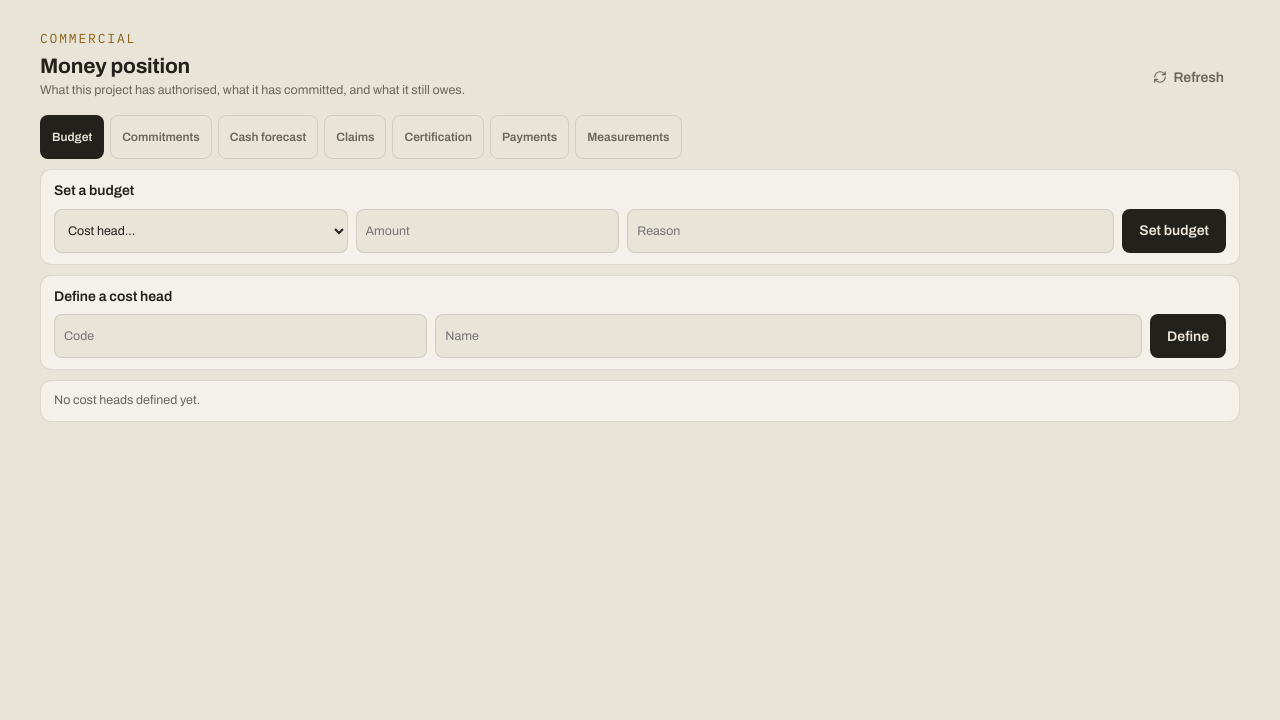
Test: Task 7B-ii (§M) — the rendered claim tabs never dereference an absent claim › renders the lifecycle once the claim is loaded
Click the button with test id "commercial-tab-claims" at (355, 137), box [324,115,386,159]
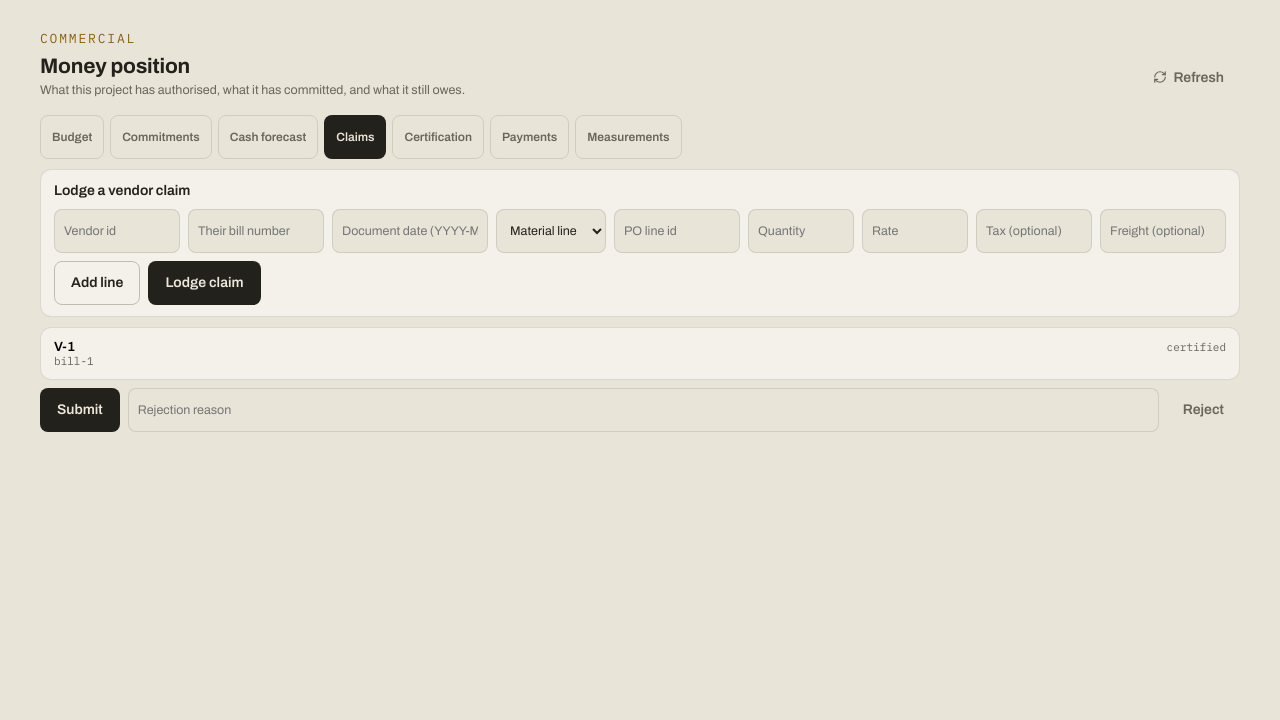
Click the button with test id "commercial-claim-row-bill-1" at (1196, 347), box [40,327,1240,380]
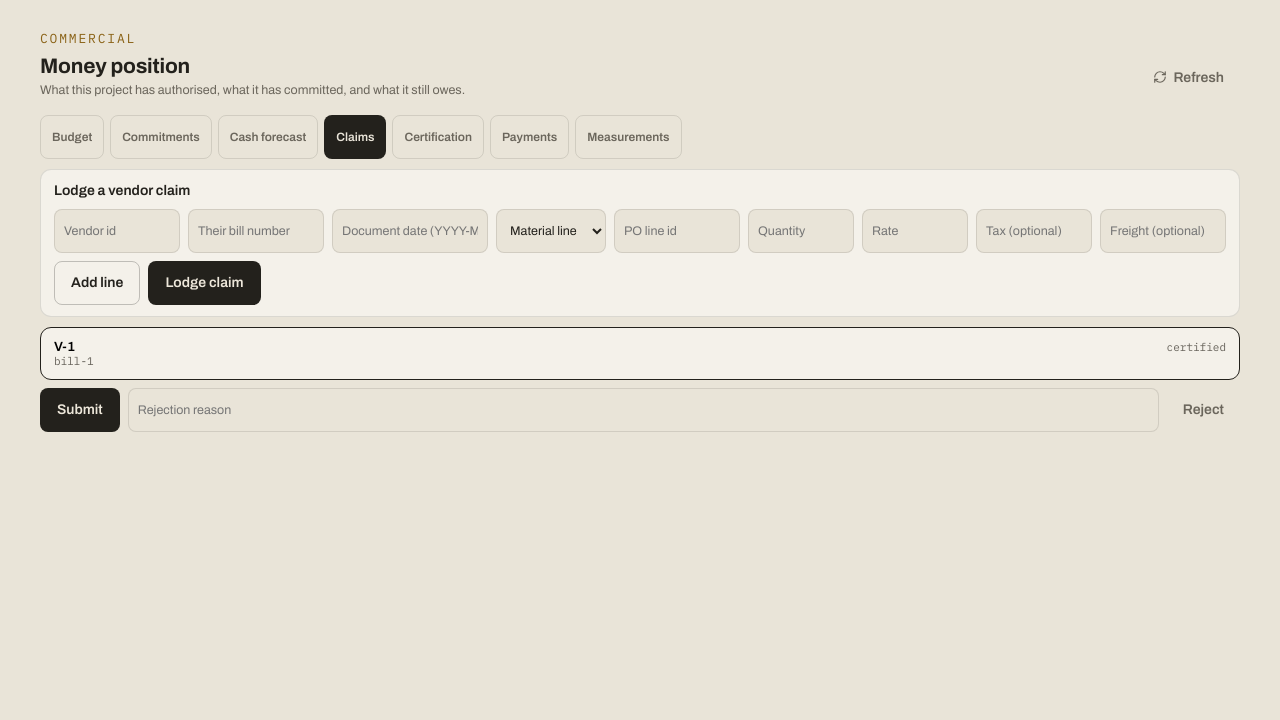
Click the button with test id "commercial-tab-certification" at (438, 137), box [392,115,484,159]
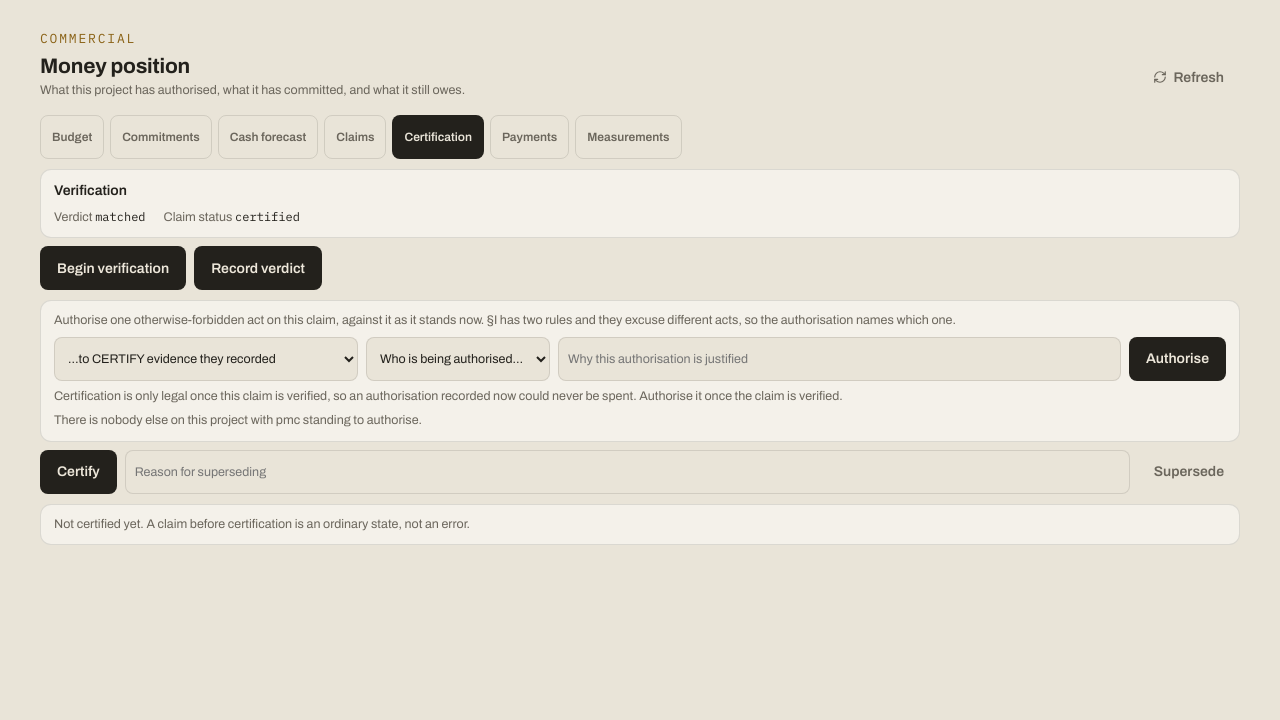
Expected: the text with test id "verification-verdict" reads "matched", [95,209,146,224]
Expected: the text with test id "commercial-certificate-none" is shown, [40,504,1240,545]
